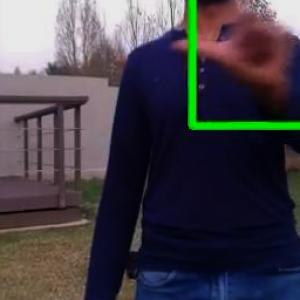land_hand: (167, 0, 299, 94)
